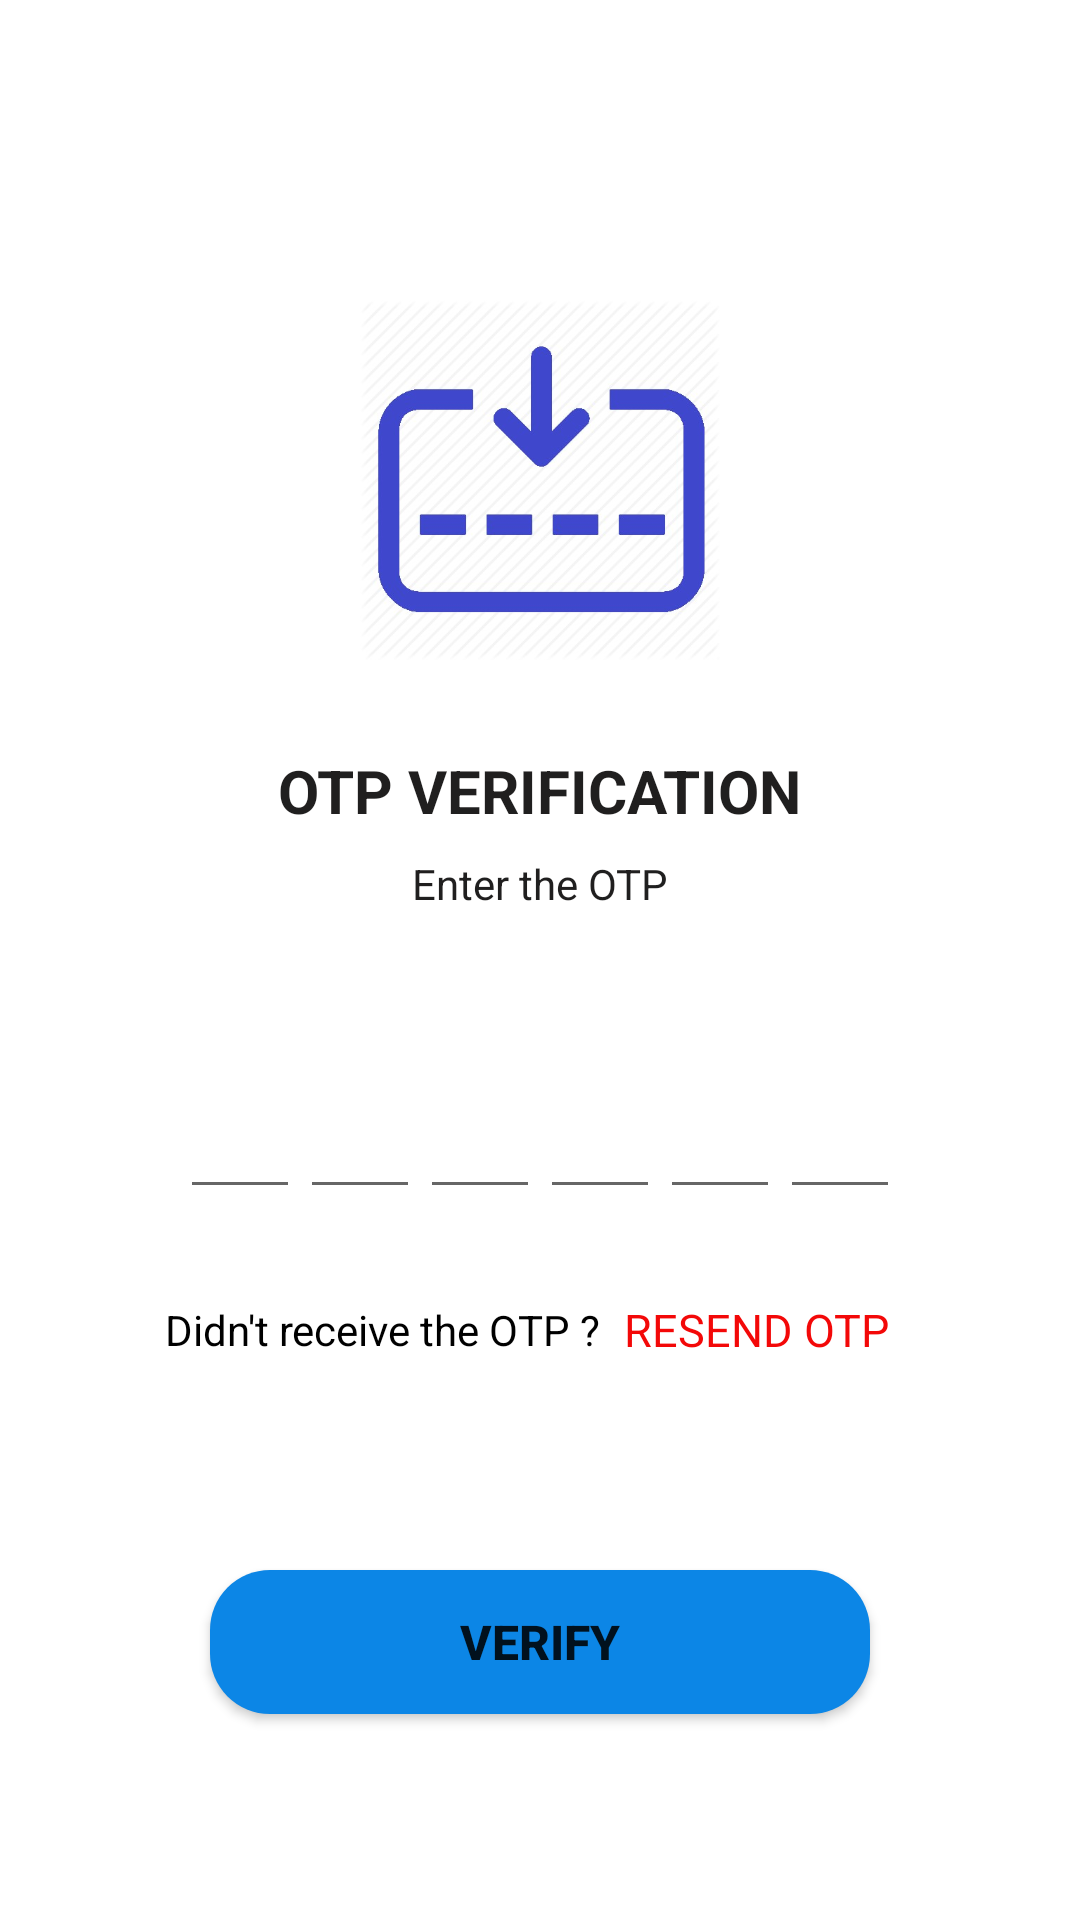

Named icons in this screenshot (1080*1920) and their bounding boxes, (x1, y1, x2, y2):
recieve: (378, 346, 705, 613)
